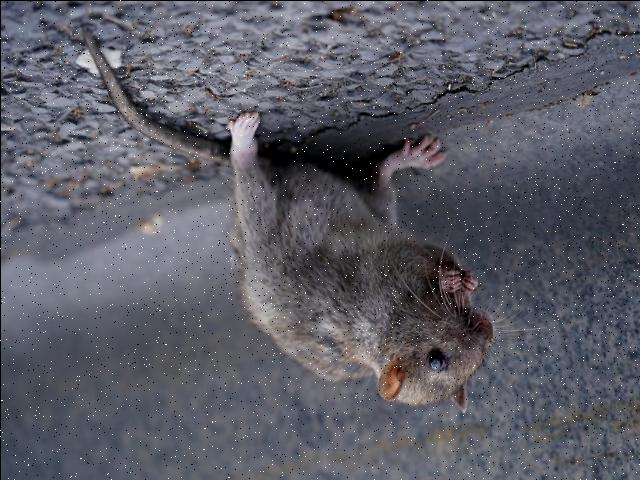Tikus: (122, 103, 496, 414)
